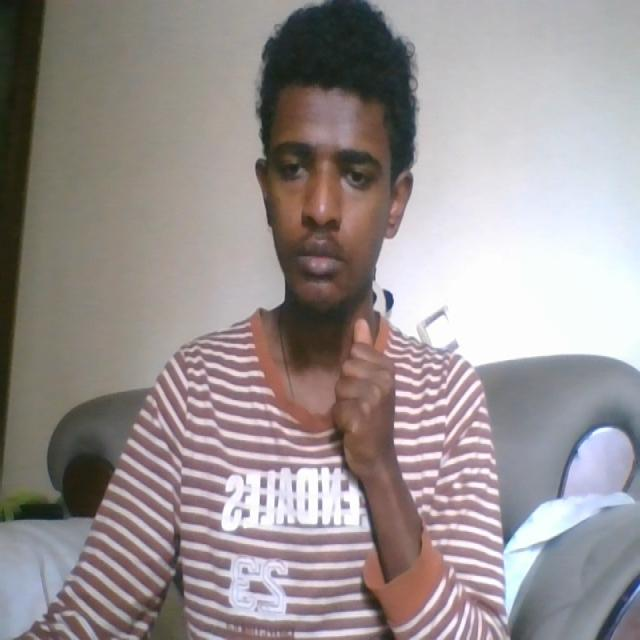akst: (307, 308, 403, 482)
